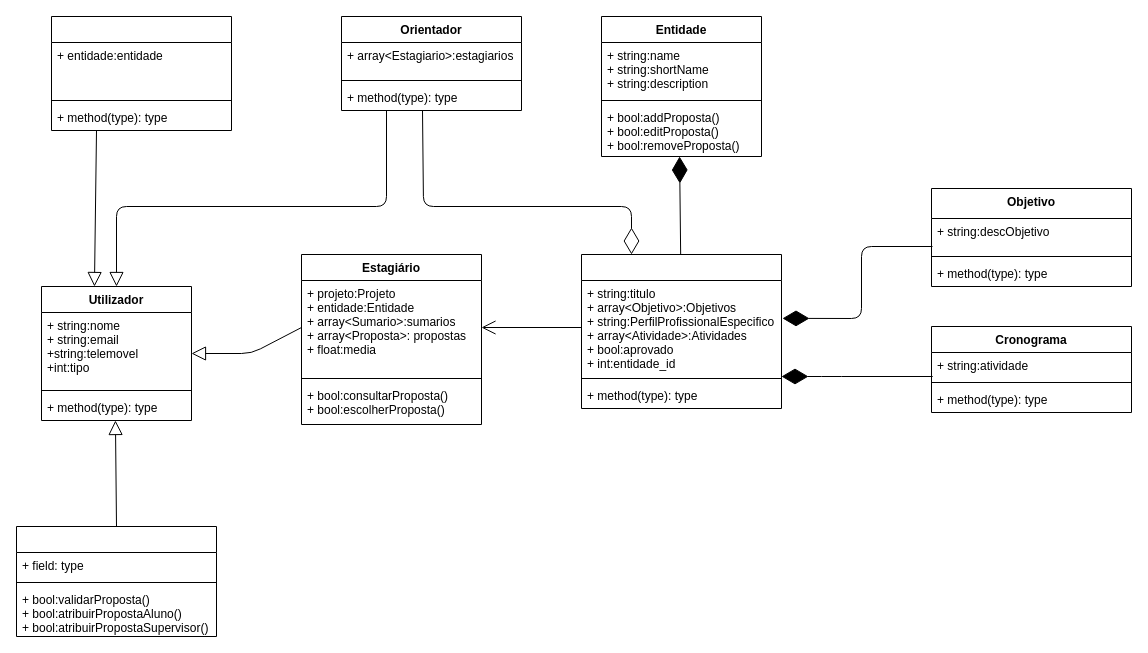
Some shapes in this 1148 by 653 pixel diagram are drawn without their labels. Each missing label, with the box of its shape:
Admin: (16, 526, 216, 636)
Projeto: (580, 254, 782, 408)
Supervisor: (50, 16, 232, 130)
